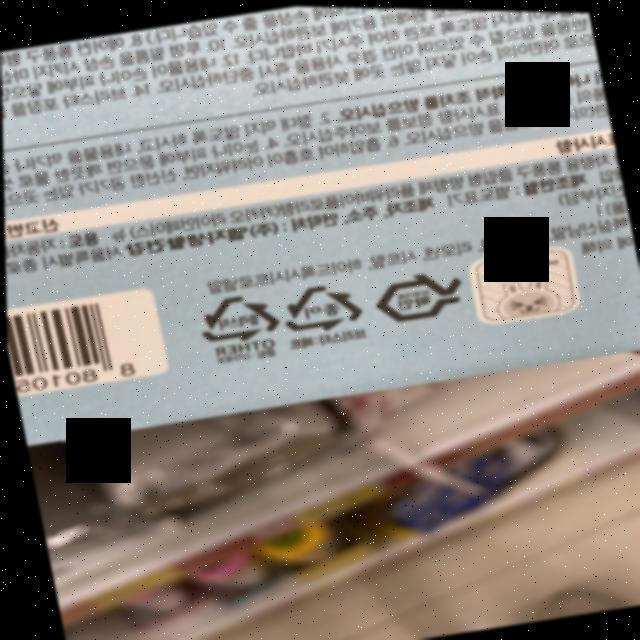Paper: (276, 274, 370, 336)
Plastic: (191, 287, 279, 349)
